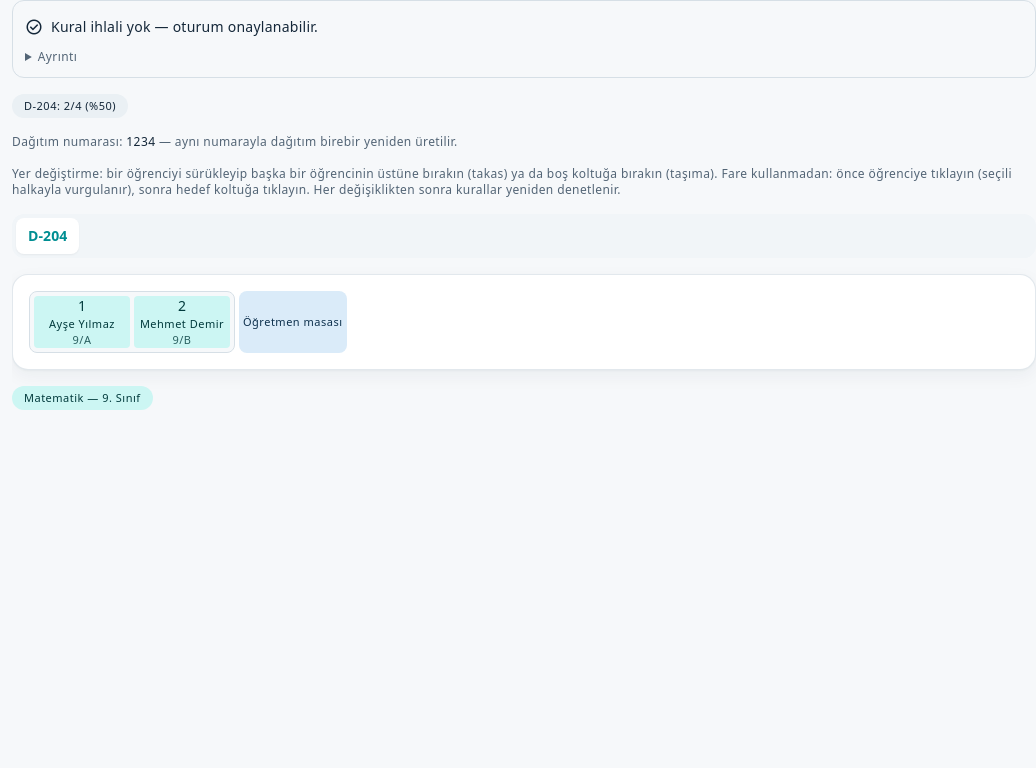
YerlesimPaneli › DAĞITILDI: iki koltuğa tıklayınca swap-seats çağrılır, ihlalsiz sonuç yeşil
The width and height of the screenshot is (1036, 768).
Click the button "1 Ayşe Yılmaz 9/A".
click(82, 322)  # box [34,296,130,348]
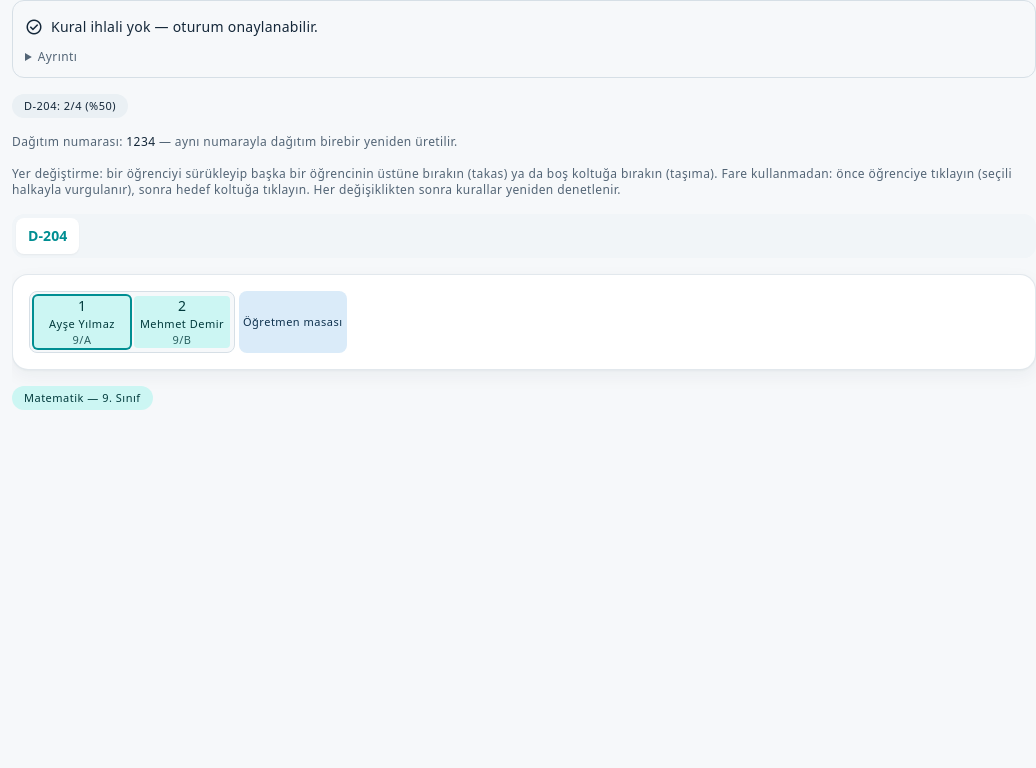
Click the button "2 Mehmet Demir 9/B".
click(182, 322)  # box [134,296,230,348]
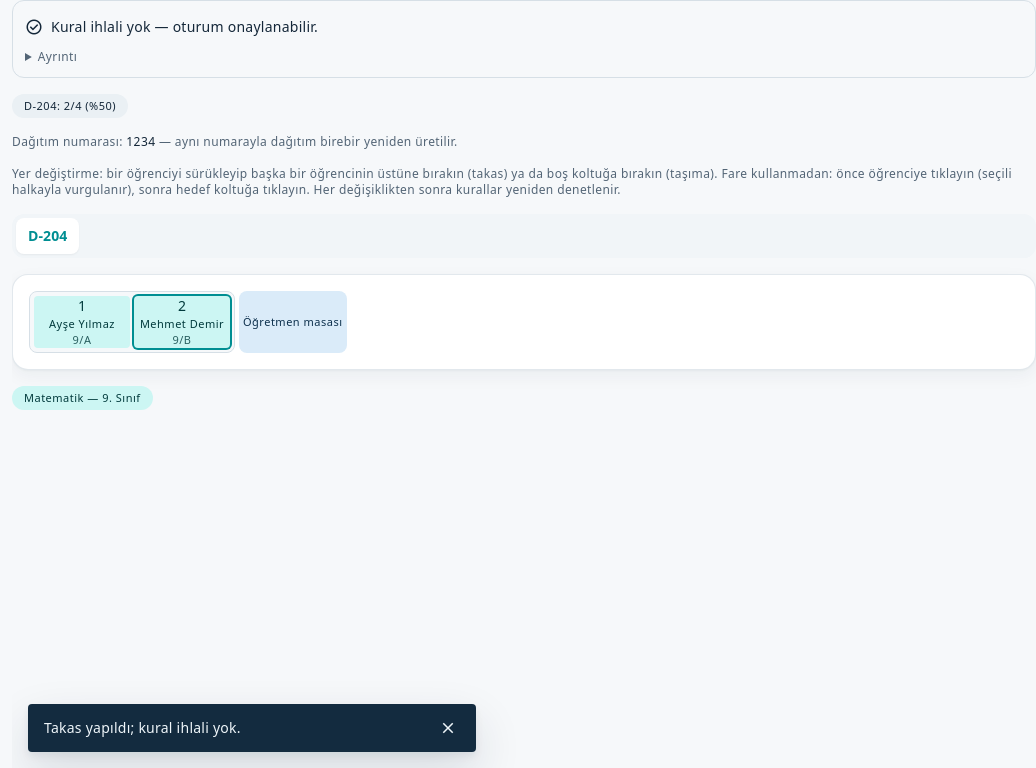
Expected: the text "Takas yapıldı; kural ihlali yok." is shown, [44,718,241,737]
